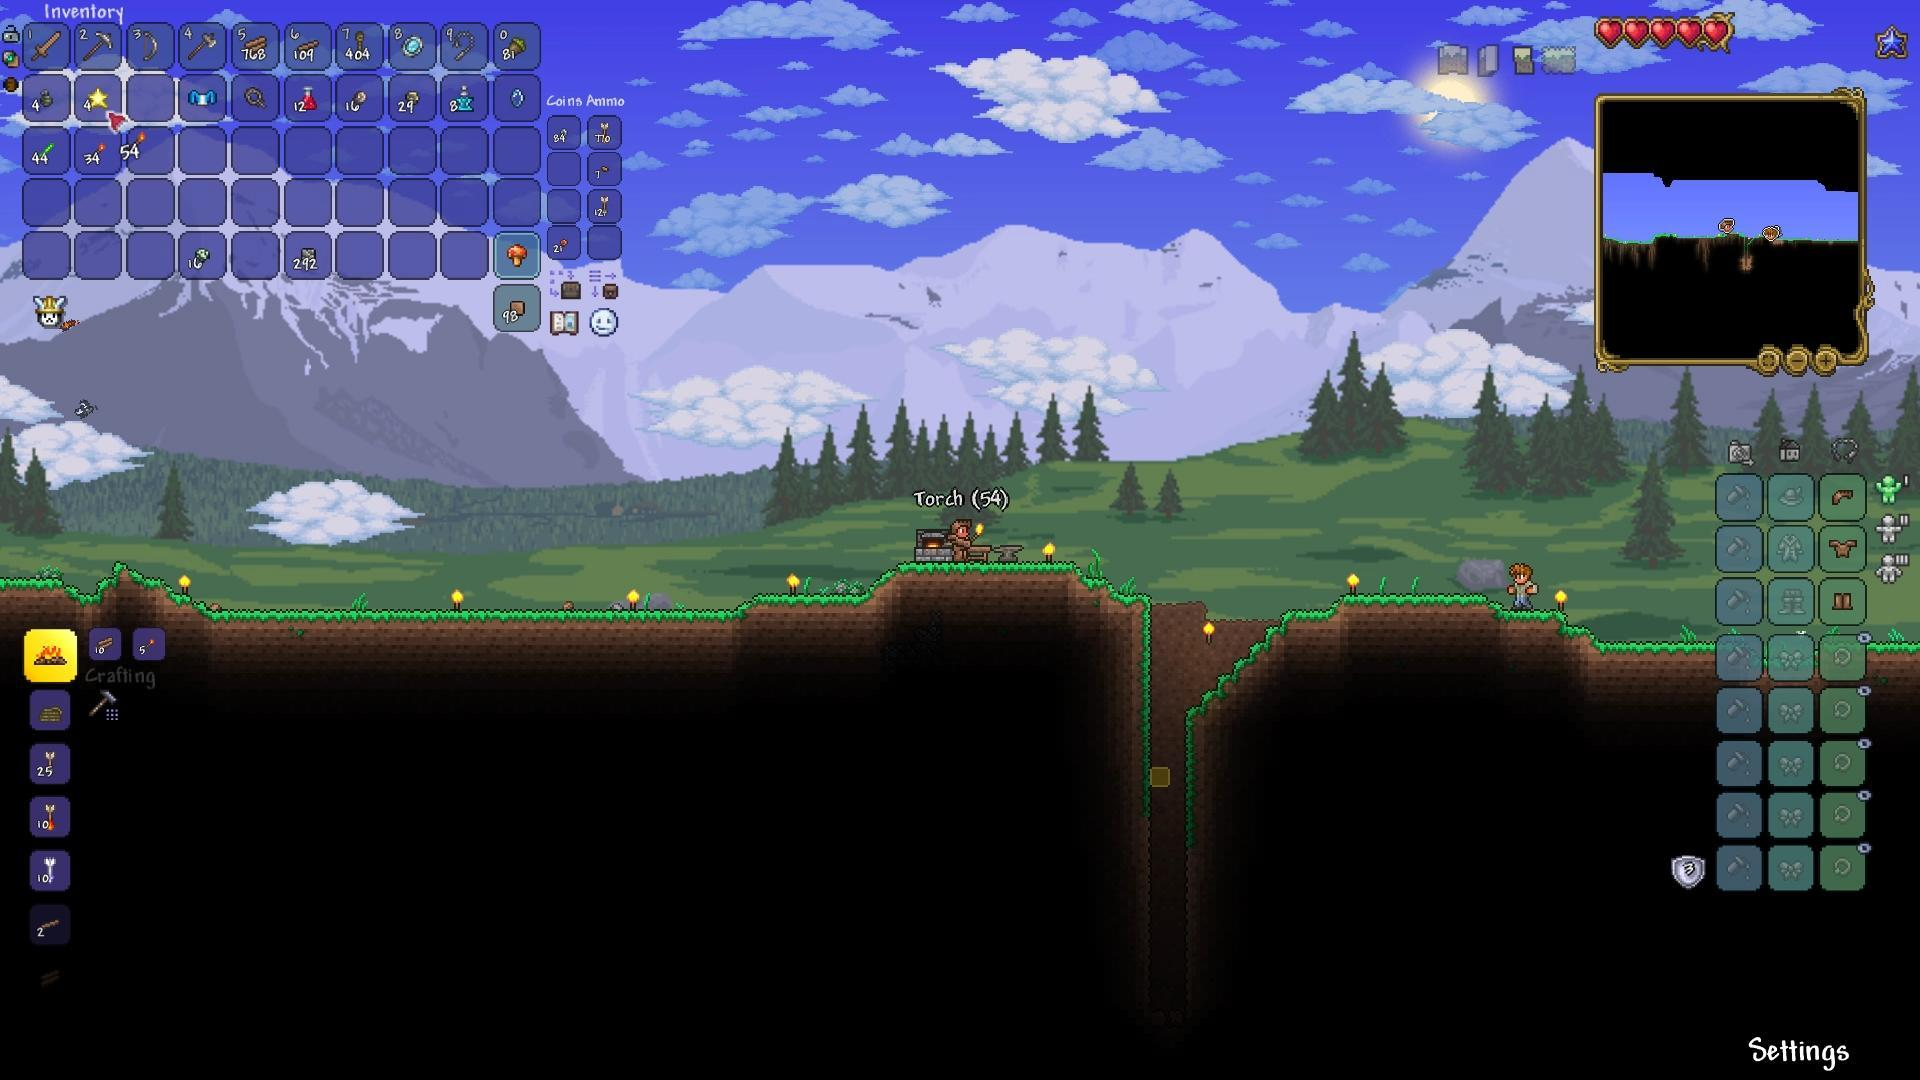anvil: (994, 537, 1026, 563)
furnace: (913, 520, 960, 564)
grenade: (88, 84, 112, 111), (36, 84, 59, 109)
potion: (299, 83, 315, 116)
recallP: (456, 80, 475, 113)
